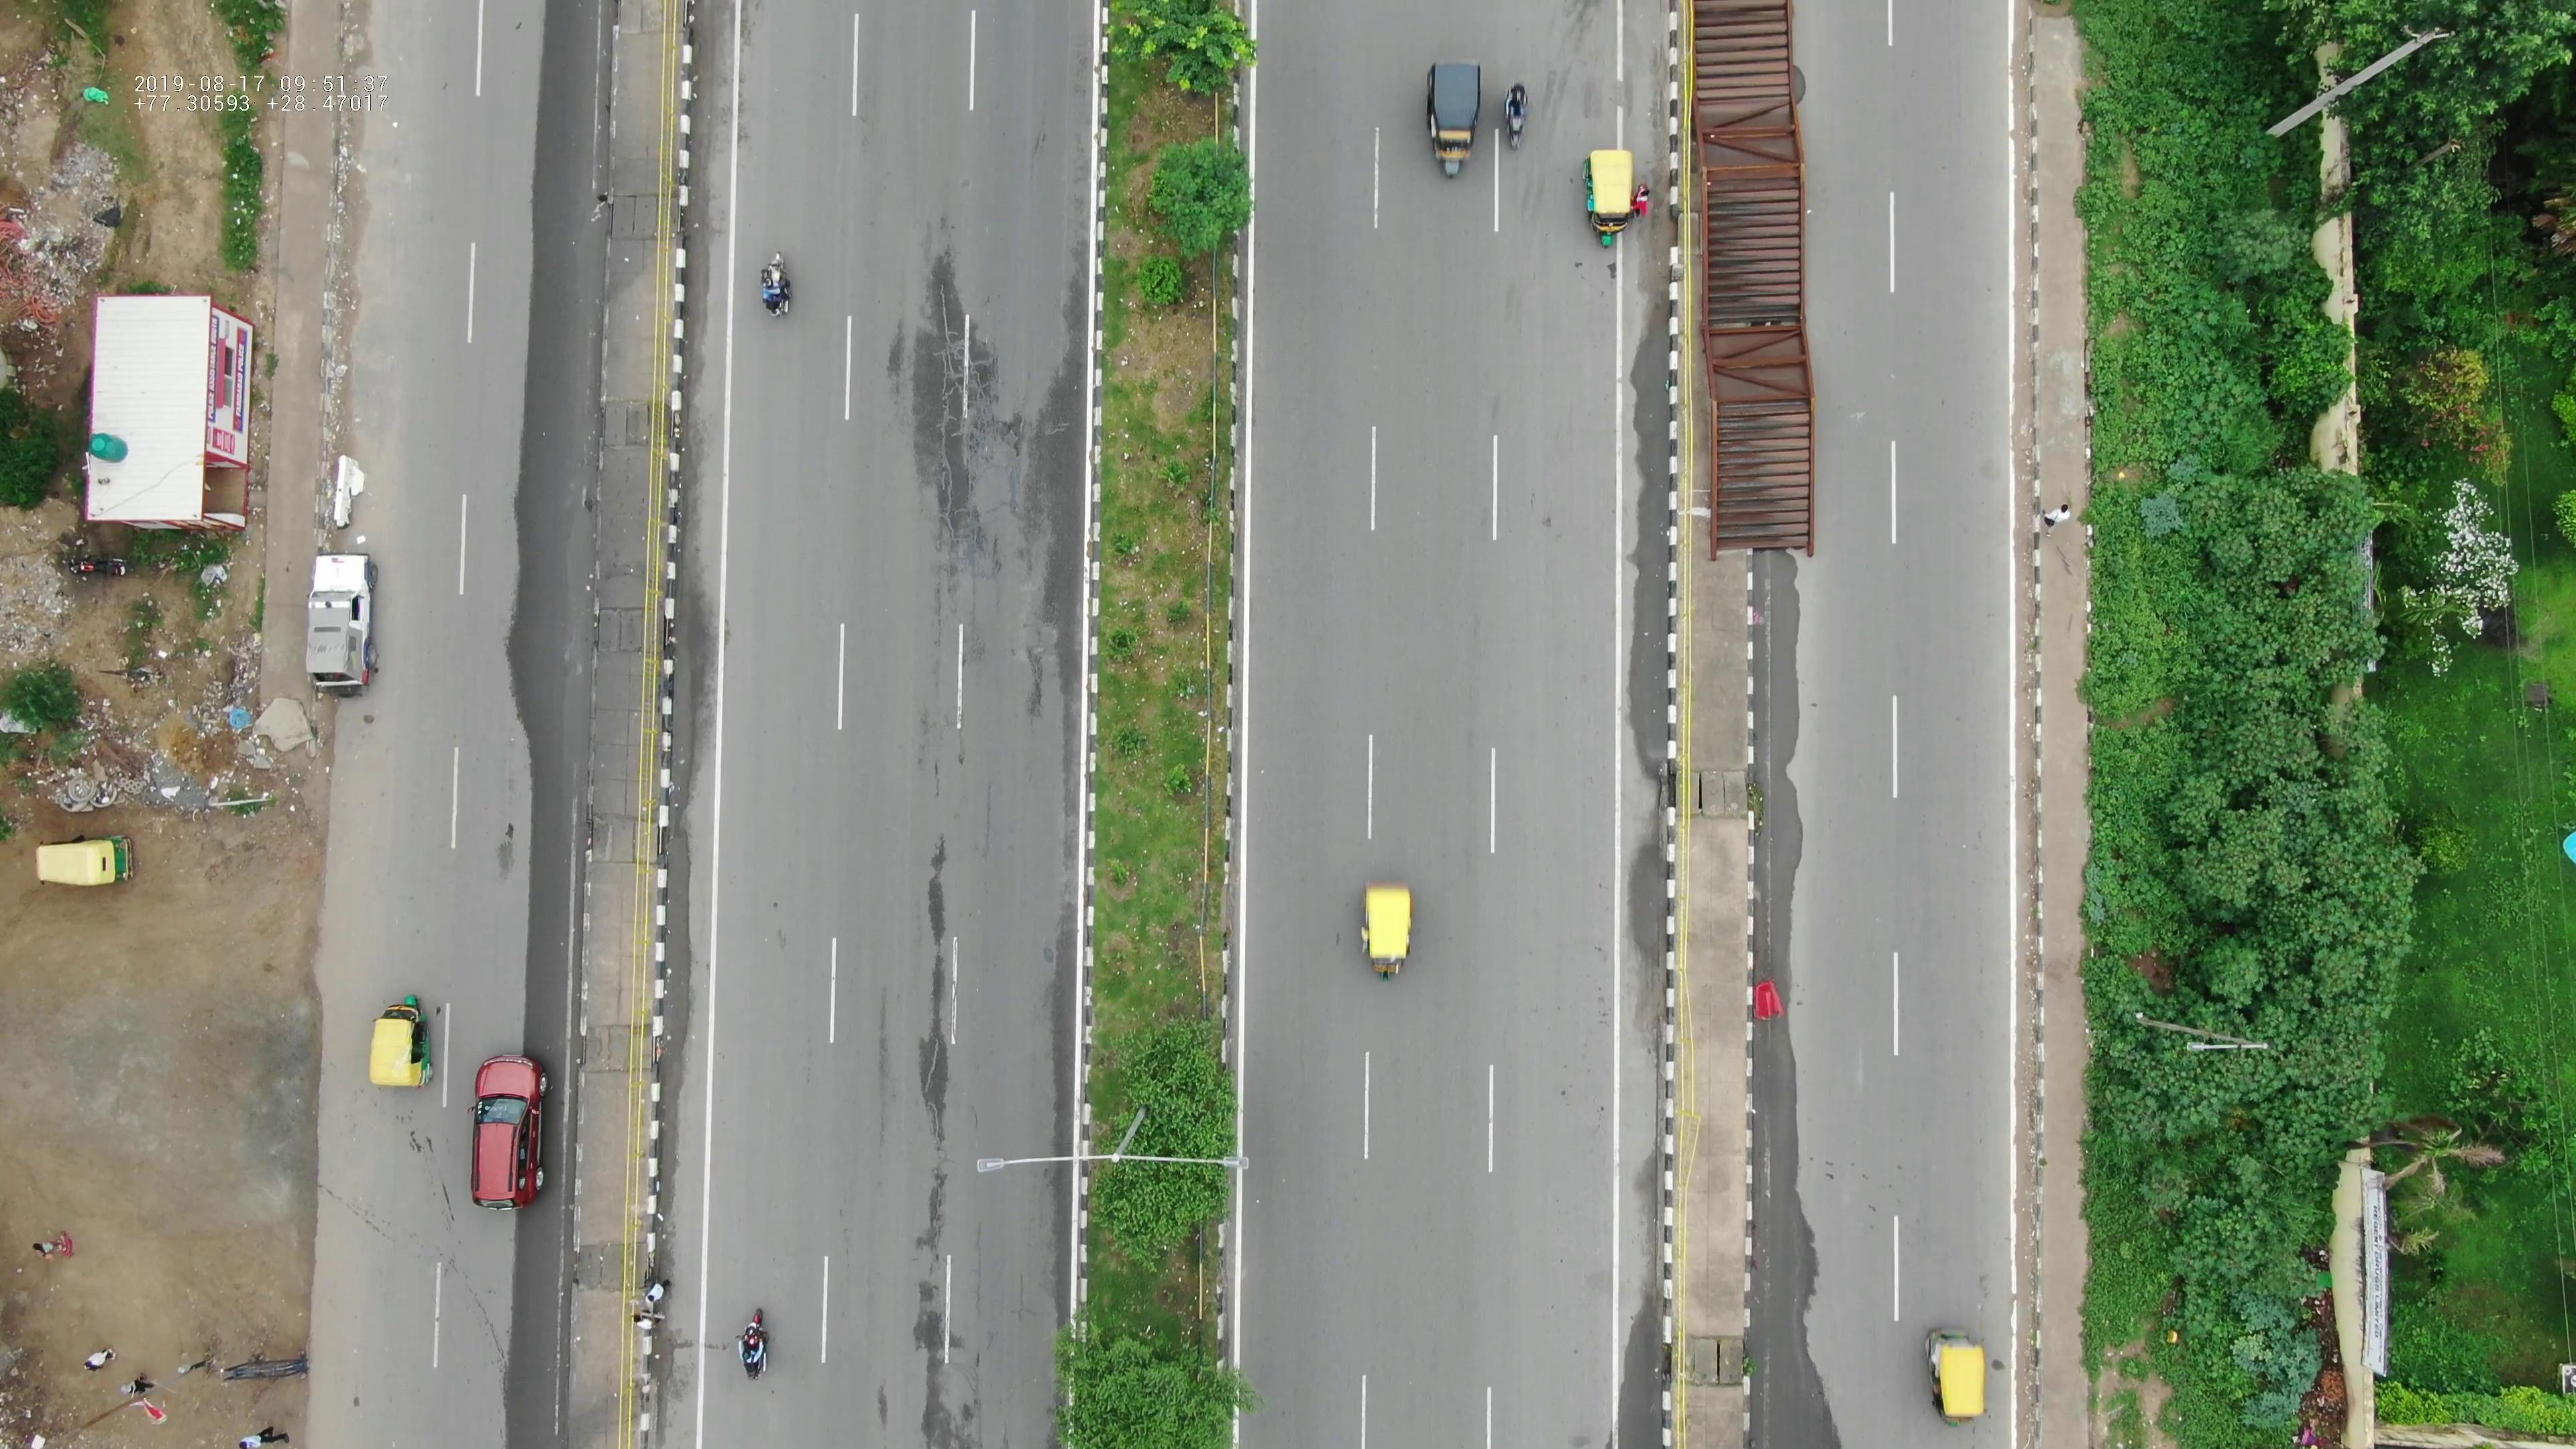Alligator_cracks: (885, 251, 1001, 563)
